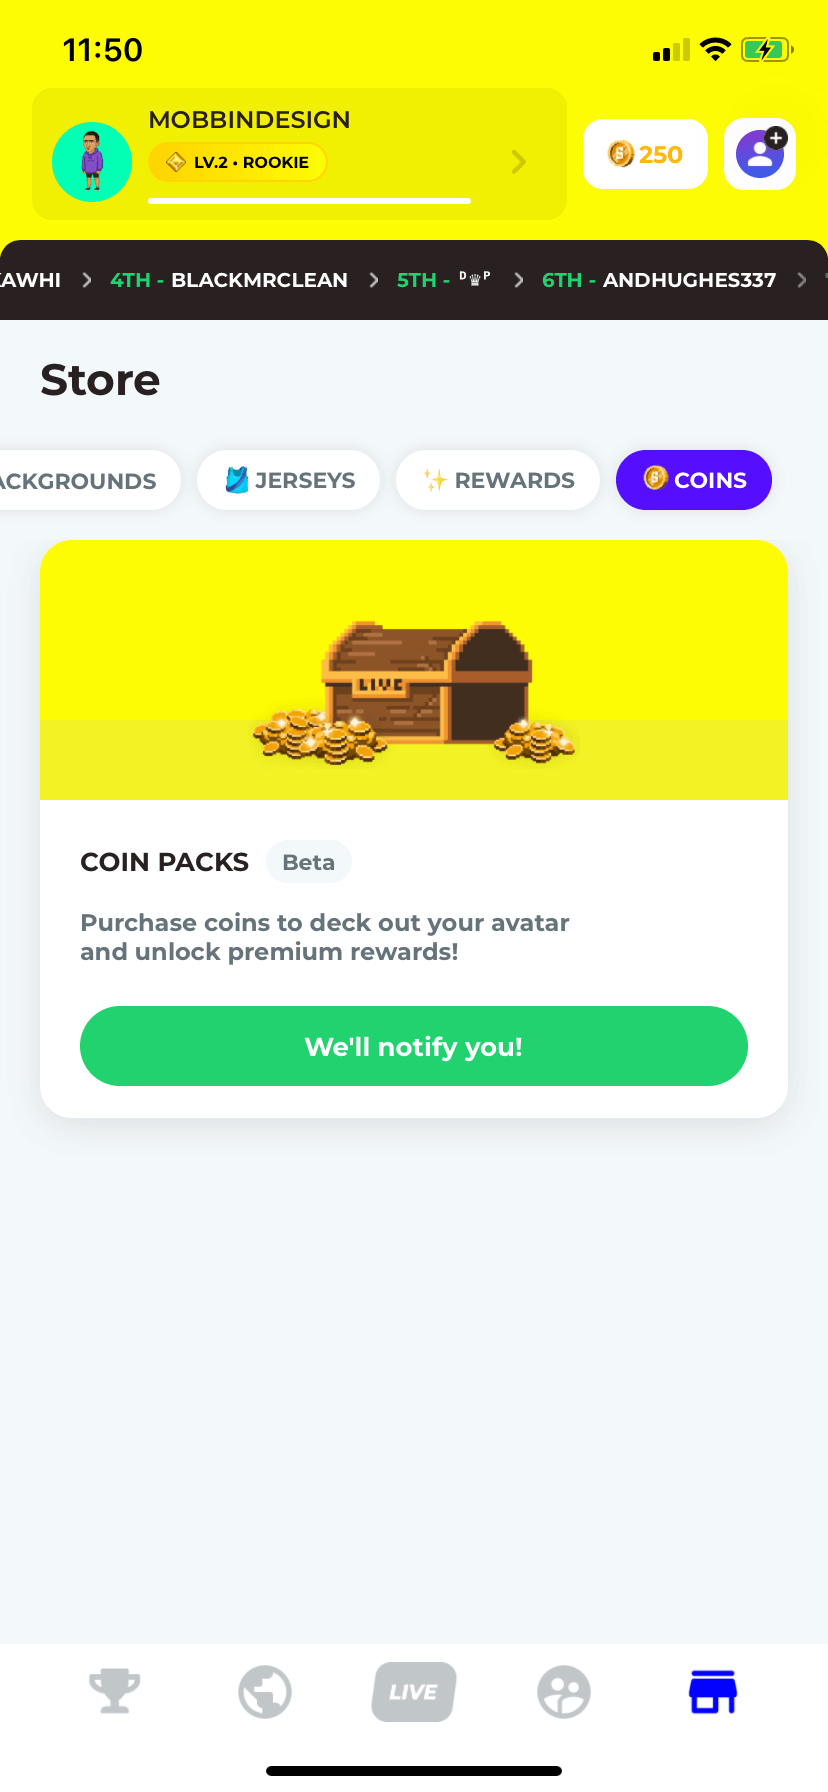Buttons: (74, 987, 753, 1098), (581, 107, 716, 193)
Progress indicators: (144, 185, 535, 218)
